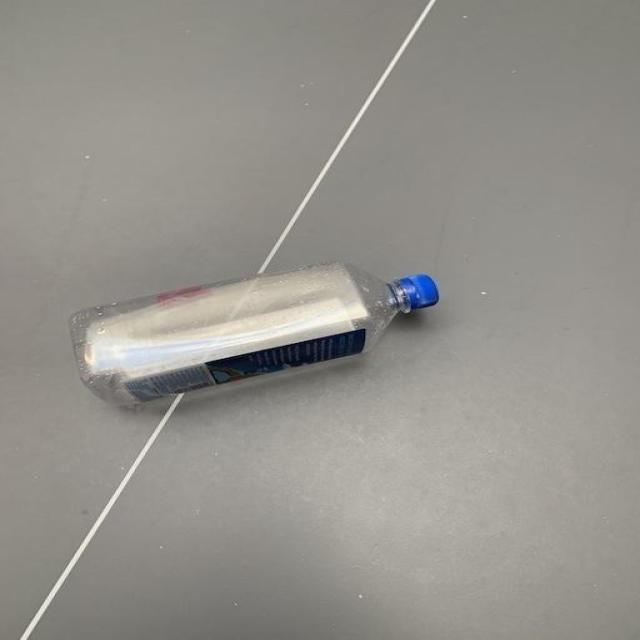plastic bottle: (68, 259, 438, 413)
